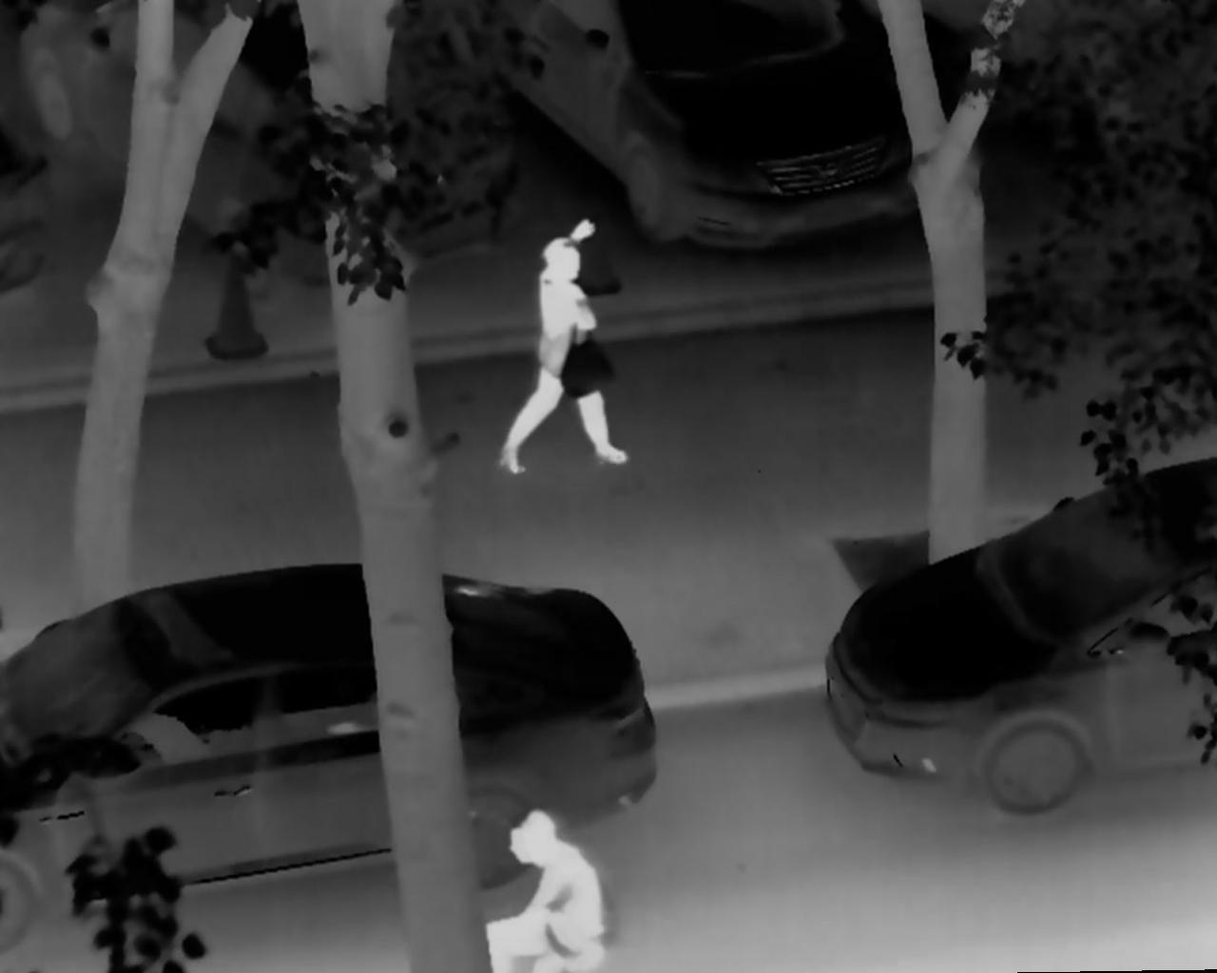person: (494, 216, 632, 478), (462, 808, 612, 973)
